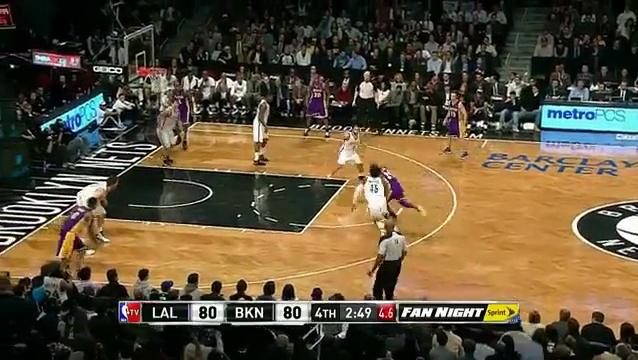Backboard: (123, 25, 155, 80)
Basket: (149, 67, 166, 88)
Person: (57, 196, 107, 272), (71, 173, 118, 246), (353, 165, 392, 233), (377, 162, 417, 221), (154, 96, 185, 166), (166, 81, 194, 151), (250, 91, 275, 165), (442, 91, 469, 158), (305, 74, 332, 140), (334, 126, 366, 175)
Referee: (368, 221, 411, 298), (354, 69, 381, 135)
Shot Clock: (1, 3, 18, 37)
